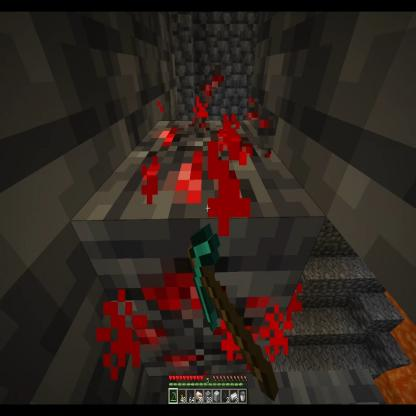redstone ore: (87, 117, 327, 385)
